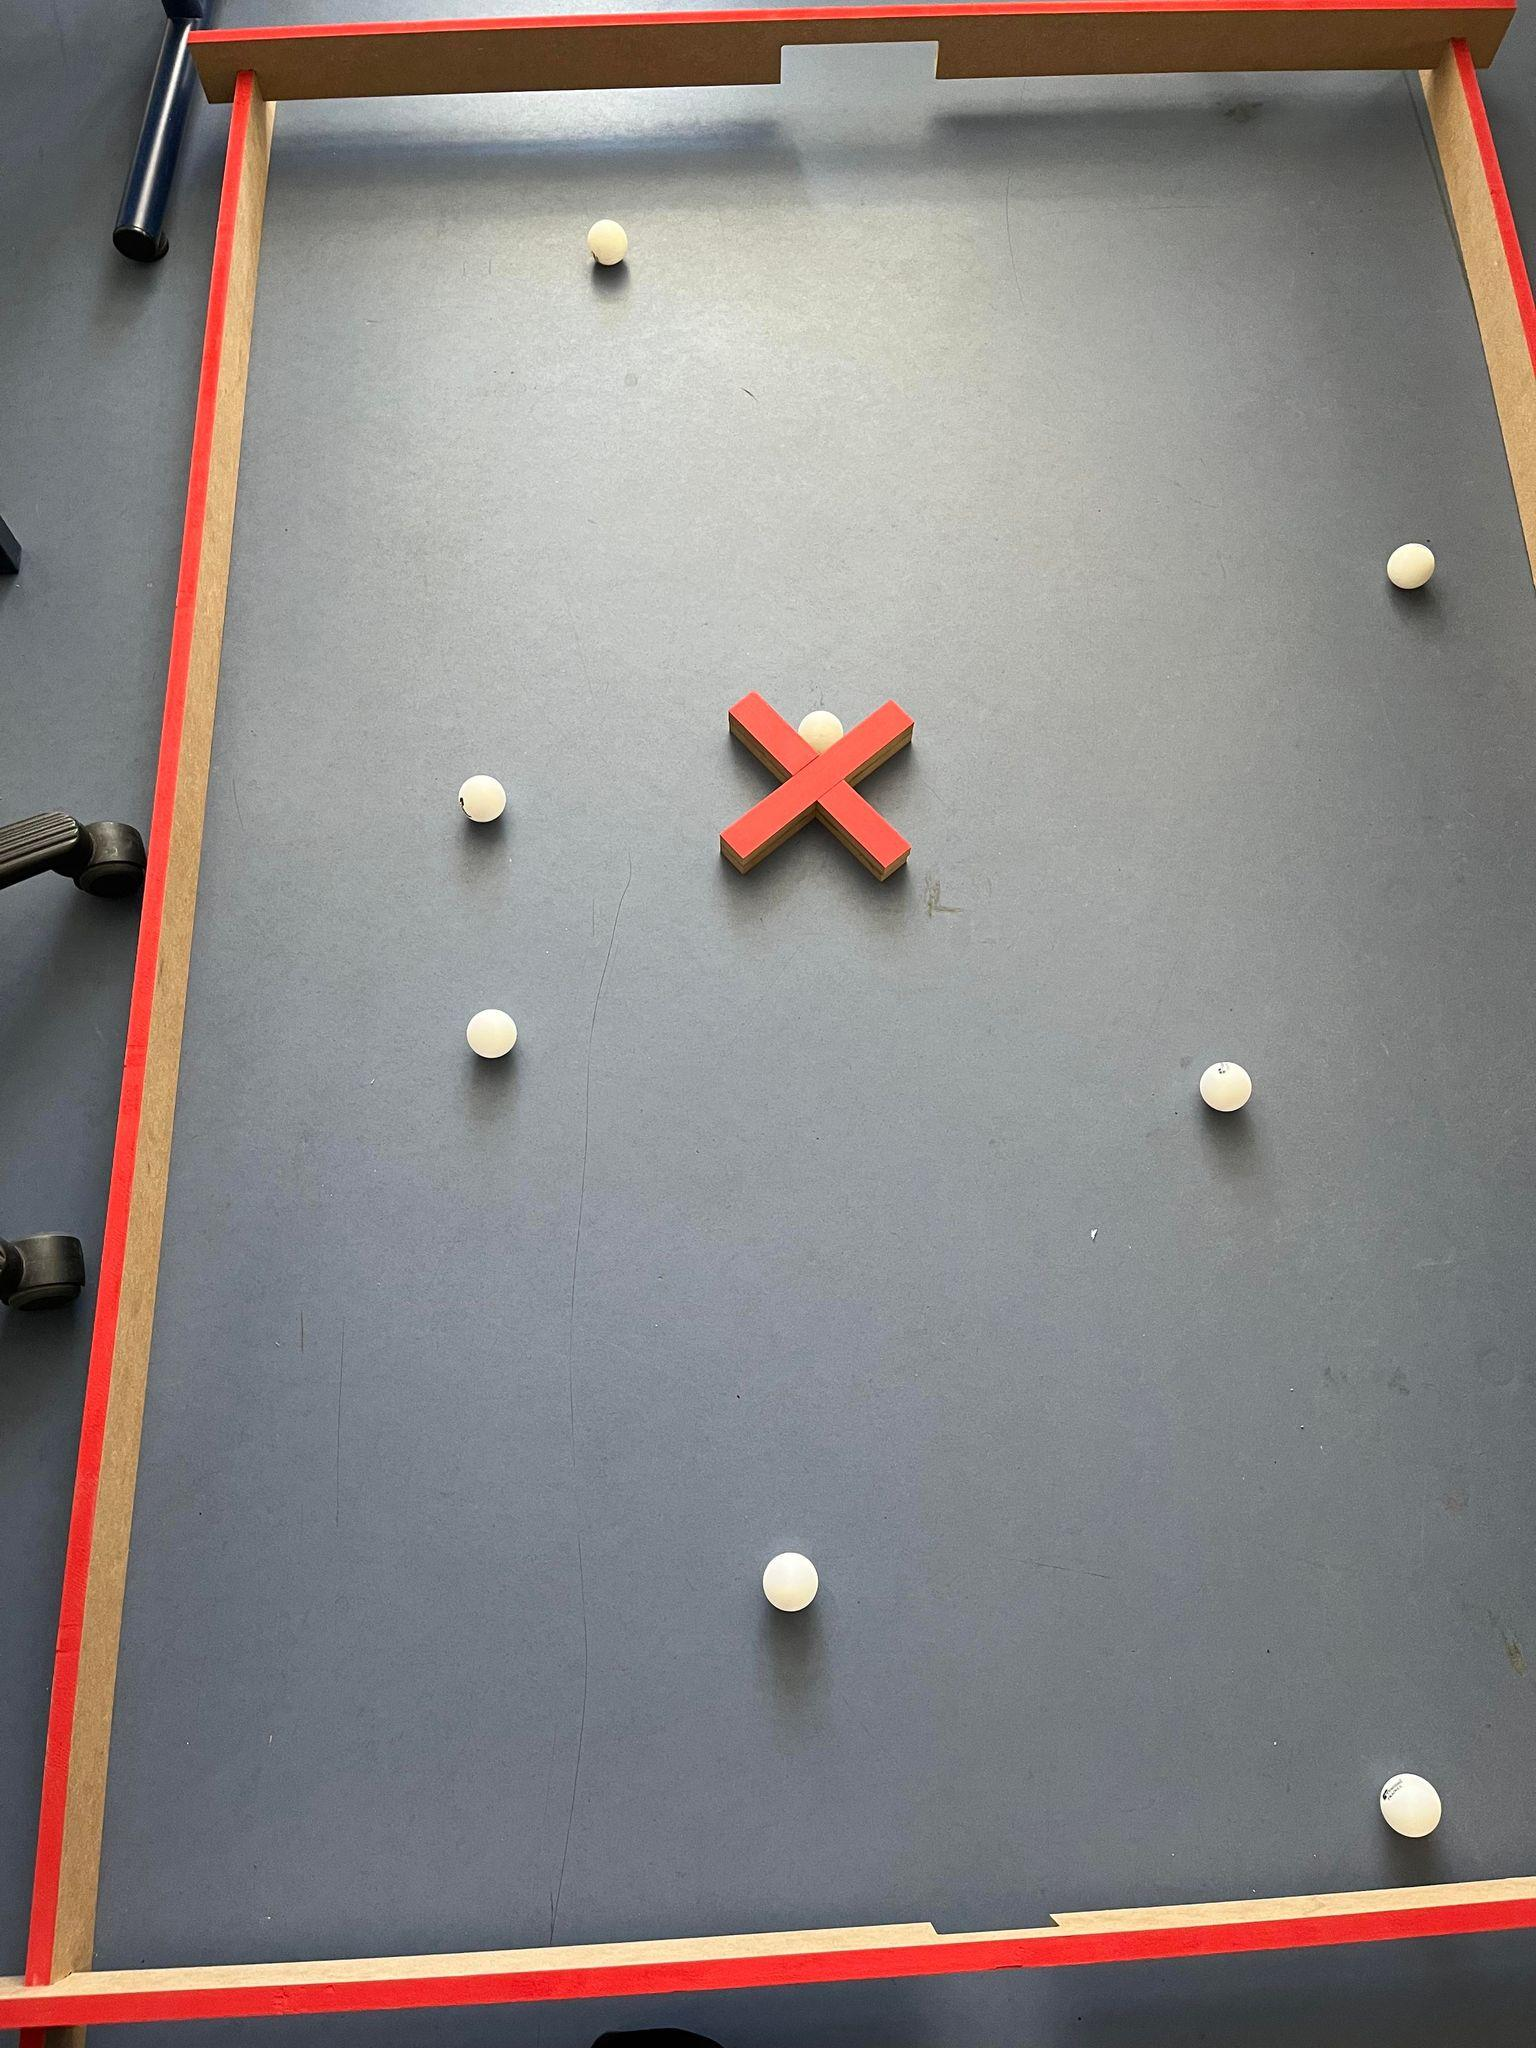white: (1375, 1767, 1450, 1844), (763, 1550, 824, 1613), (1195, 1054, 1254, 1115), (462, 1007, 521, 1061), (458, 770, 507, 833), (585, 217, 633, 269)
